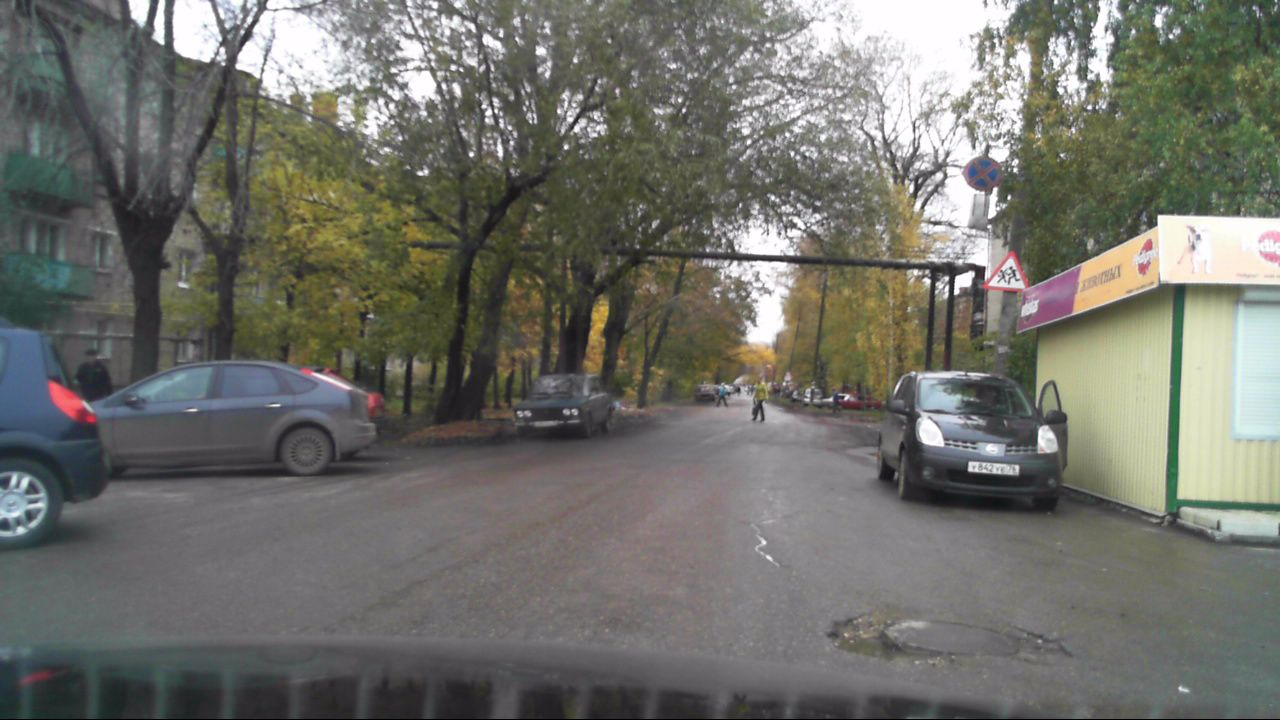No Parking: (965, 156, 1002, 189)
